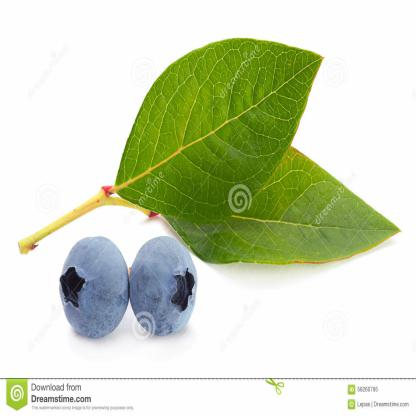Blueberry leaf: (116, 33, 334, 229), (177, 141, 408, 276)
